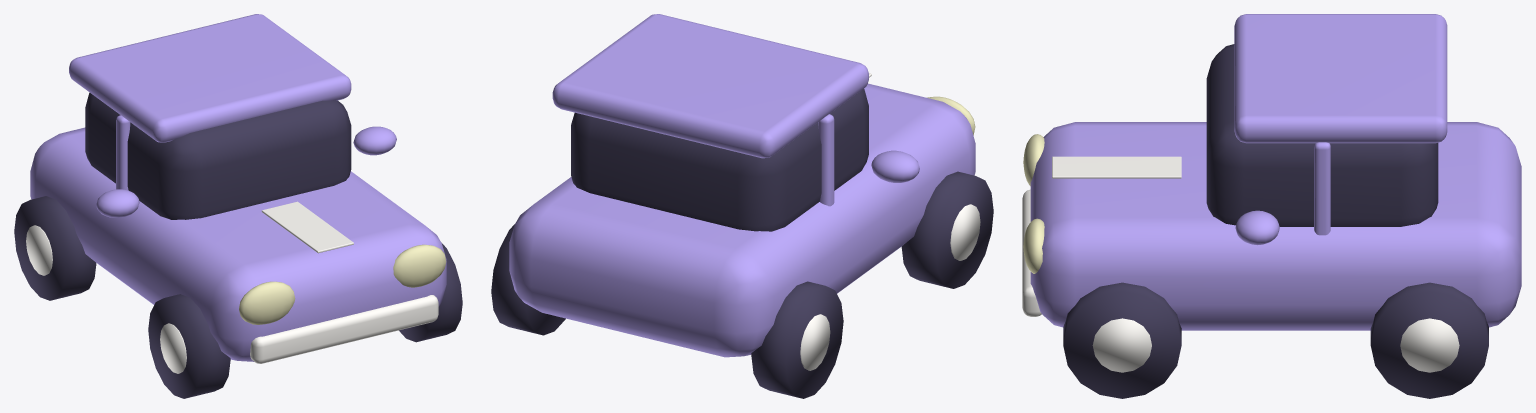
The model's file is car.glb.
3 renders of one model, left to right at view 1: azimuth 30°, elevation 25°; view 2: azimuth 150°, elevation 25°; view 3: azimuth 270°, elevation 25°, orthographic. The views are drawn at different scales.
Visible parts, largest first — view 1: Car_Export_CarPaint, Car_Export_ink, Car_Export_white, Car_Export_butter; view 2: Car_Export_CarPaint, Car_Export_ink, Car_Export_white; view 3: Car_Export_CarPaint, Car_Export_ink, Car_Export_white, Car_Export_butter.
Boxes of the visible parts, x1=… form: Car_Export_CarPaint: x1=30, y1=14, x2=446, y2=361; Car_Export_ink: x1=14, y1=92, x2=462, y2=398; Car_Export_white: x1=26, y1=201, x2=438, y2=373; Car_Export_butter: x1=239, y1=244, x2=446, y2=324; Car_Export_CarPaint: x1=509, y1=14, x2=975, y2=357; Car_Export_ink: x1=491, y1=89, x2=993, y2=398; Car_Export_white: x1=800, y1=73, x2=980, y2=370; Car_Export_CarPaint: x1=1030, y1=14, x2=1521, y2=330; Car_Export_ink: x1=1063, y1=44, x2=1488, y2=398; Car_Export_white: x1=1022, y1=156, x2=1459, y2=372; Car_Export_butter: x1=1023, y1=134, x2=1044, y2=273.
Bounding box in the file's own units: 2.12 × 1.55 × 2.69.
